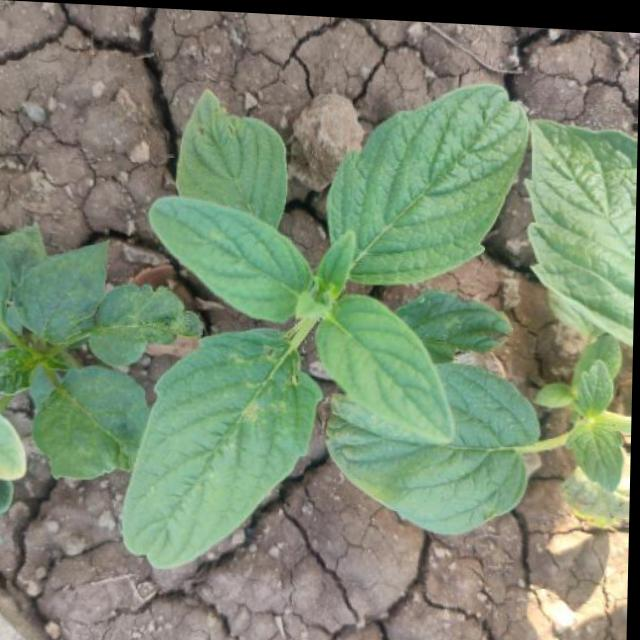crop: (123, 72, 546, 551), (0, 218, 215, 509)
